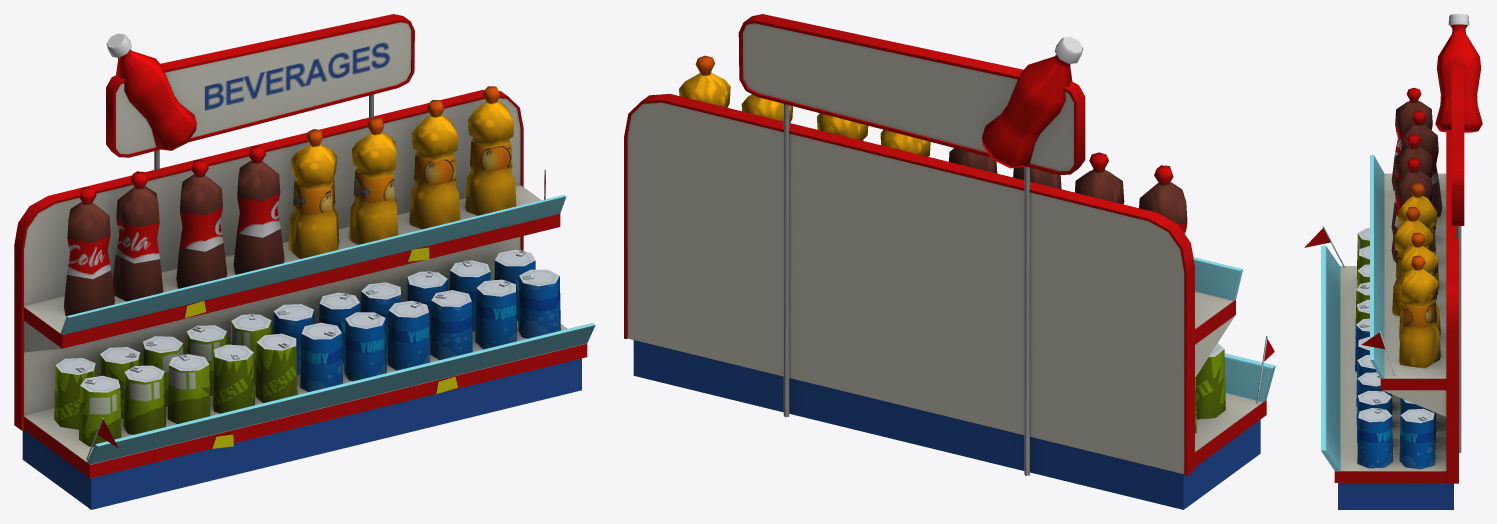
File: interior_shelf_drinks_001_gr_mesh.FBX
The picture shows the model from 3 angles, left to right: view 1: azimuth 30°, elevation 25°; view 2: azimuth 150°, elevation 25°; view 3: azimuth 270°, elevation 25°; orthographic projection. The views are drawn at different scales.
Visible parts, largest first — view 1: interior_shelf_drinks_001_gr; view 2: interior_shelf_drinks_001_gr; view 3: interior_shelf_drinks_001_gr.
Boxes of the visible parts, <box> form: interior_shelf_drinks_001_gr: <box>14,14,595,509</box>; interior_shelf_drinks_001_gr: <box>624,14,1275,509</box>; interior_shelf_drinks_001_gr: <box>1304,14,1482,509</box>.
Bounding box in the file's own units: 29.58 × 22.43 × 10.8.
